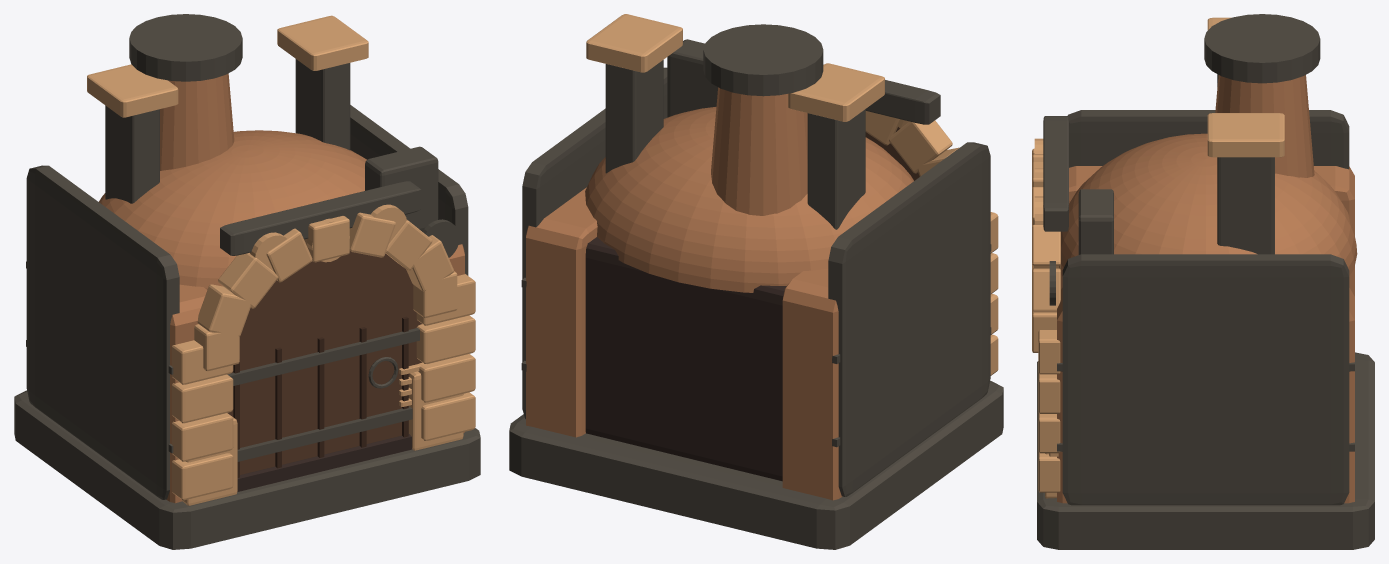
The model's file is kiln.glb.
The picture shows the model from 3 angles, left to right: view 1: azimuth 30°, elevation 25°; view 2: azimuth 150°, elevation 25°; view 3: azimuth 270°, elevation 25°; orthographic projection. The views are drawn at different scales.
Visible parts, largest first — view 1: kiln-upgrade-hoop-040, kiln-door-panel-023, kiln-plinth-000, kiln-dome-004, kiln-chimney-cap-033, kiln-chimney-032, kiln-upgrade-beam-054, kiln-upgrade-post-050, kiln-upgrade-post-052, kiln-upgrade-cap-053, kiln-upgrade-hoop-042, kiln-upgrade-dial-box-044 (+29 smaller); view 2: kiln-upgrade-hoop-040, kiln-back-wall-001, kiln-dome-004, kiln-plinth-000, kiln-side-wall-003, kiln-side-wall-002, kiln-chimney-032, kiln-chimney-cap-033, kiln-upgrade-hoop-042, kiln-upgrade-post-050, kiln-upgrade-post-052, kiln-upgrade-cap-053 (+5 smaller); view 3: kiln-upgrade-hoop-042, kiln-dome-004, kiln-plinth-000, kiln-upgrade-hoop-040, kiln-chimney-cap-033, kiln-upgrade-post-052, kiln-chimney-032, kiln-upgrade-cap-053, kiln-upgrade-beam-054, kiln-upgrade-dial-box-044, kiln-side-wall-003, kiln-side-wall-002 (+7 smaller).
Part boxes in pixels (x1,y1,x2,y2): kiln-upgrade-hoop-040: (26, 165, 179, 499); kiln-door-panel-023: (227, 251, 422, 474); kiln-plinth-000: (14, 390, 480, 549); kiln-dome-004: (99, 130, 366, 289); kiln-chimney-cap-033: (129, 14, 242, 81); kiln-chimney-032: (160, 73, 234, 170); kiln-upgrade-beam-054: (220, 181, 421, 255); kiln-upgrade-post-050: (105, 105, 159, 203); kiln-upgrade-post-052: (295, 59, 350, 150); kiln-upgrade-cap-053: (277, 15, 368, 70); kiln-upgrade-hoop-042: (350, 105, 468, 275); kiln-upgrade-dial-box-044: (365, 146, 438, 231); kiln-upgrade-hoop-040: (828, 142, 990, 496); kiln-back-wall-001: (585, 237, 786, 481); kiln-dome-004: (585, 107, 913, 292); kiln-plinth-000: (509, 381, 1003, 549); kiln-side-wall-003: (526, 187, 597, 437); kiln-side-wall-002: (782, 268, 842, 500); kiln-chimney-032: (711, 87, 807, 215); kiln-chimney-cap-033: (703, 24, 823, 96); kiln-upgrade-hoop-042: (522, 67, 667, 418); kiln-upgrade-post-050: (807, 109, 865, 229); kiln-upgrade-post-052: (605, 60, 663, 173); kiln-upgrade-cap-053: (586, 14, 682, 72); kiln-upgrade-hoop-042: (1062, 254, 1349, 505); kiln-dome-004: (1061, 133, 1357, 276); kiln-plinth-000: (1037, 352, 1374, 549); kiln-upgrade-hoop-040: (1067, 110, 1349, 169); kiln-chimney-cap-033: (1204, 14, 1320, 83); kiln-upgrade-post-052: (1217, 157, 1274, 254); kiln-chimney-032: (1215, 75, 1314, 177); kiln-upgrade-cap-053: (1207, 113, 1284, 157); kiln-upgrade-beam-054: (1043, 116, 1068, 231); kiln-upgrade-dial-box-044: (1078, 189, 1113, 254); kiln-side-wall-003: (1057, 287, 1354, 503); kiln-side-wall-002: (1061, 166, 1354, 296).
Size of the model in its own units: 2.35 by 2.86 by 2.13.
